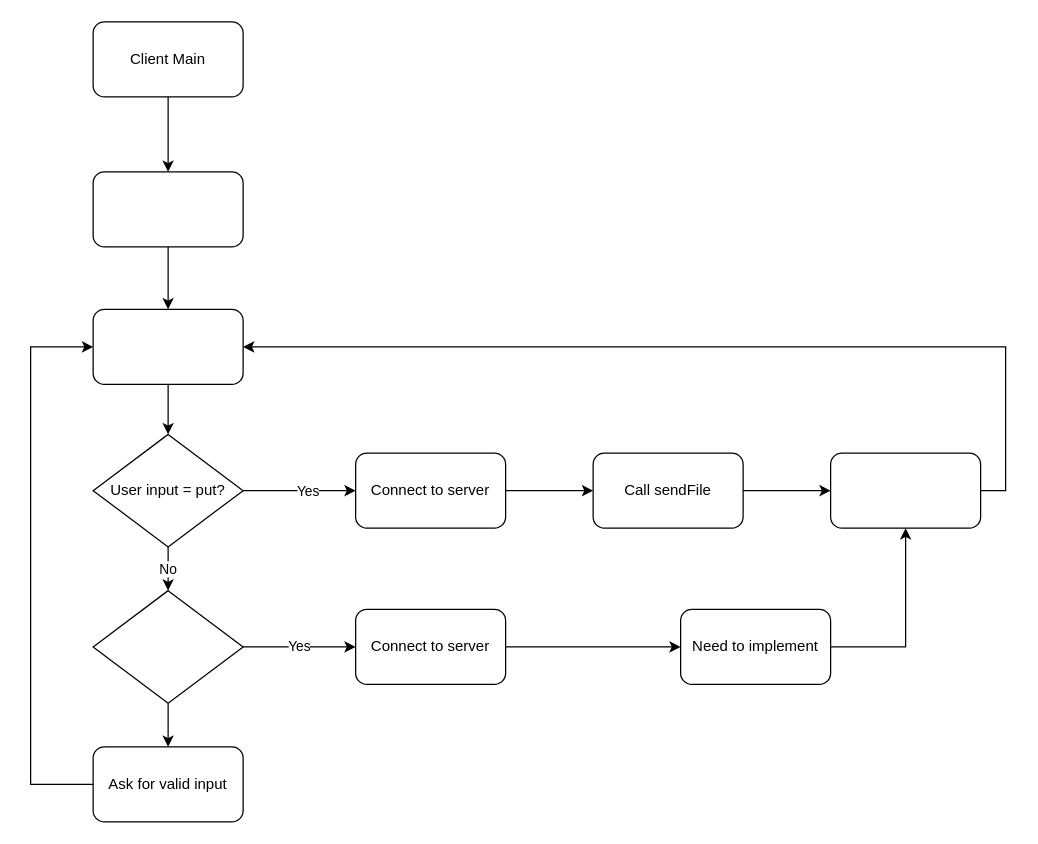
Some shapes in this 1038 by 844 pixel diagram are drawn without their labels. Each missing label, with the centre of its shape:
"Check user input" belongs at pixel 167 346.
"Close old socket and create new one" belongs at pixel 905 490.
"Create socket" belongs at pixel 167 209.
"User input = get?" belongs at pixel 167 646.
